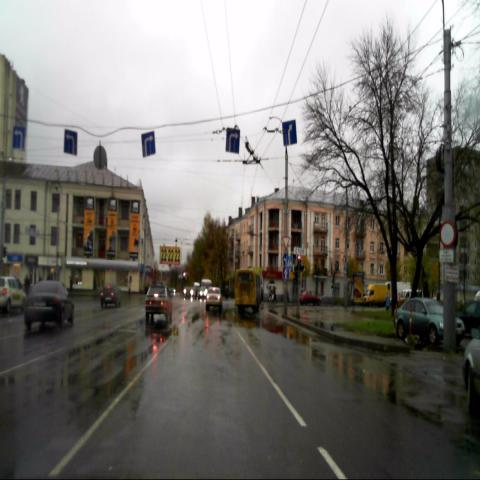3_2: (440, 221, 453, 249)
